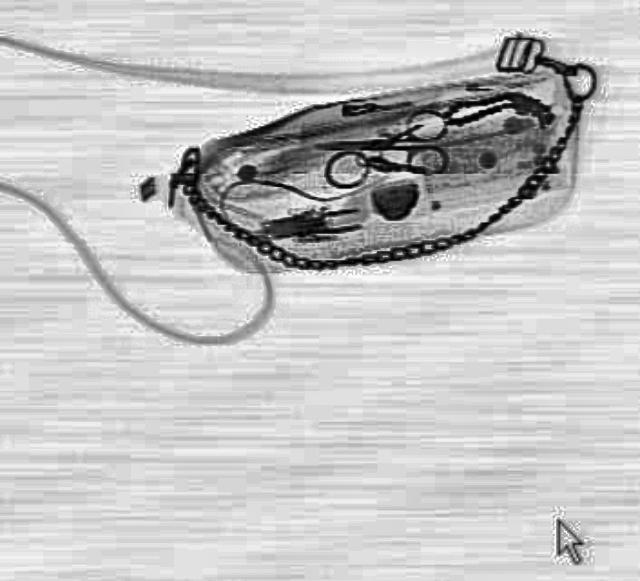Scissors: (310, 106, 448, 178)
